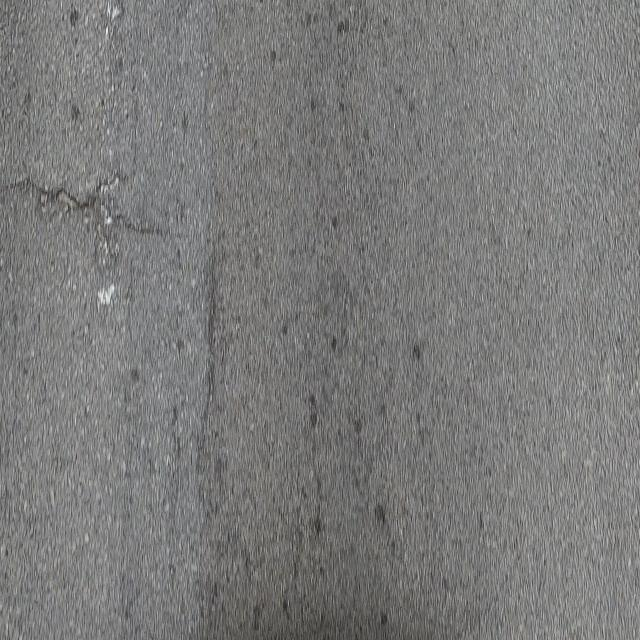Retak-Melintang: (5, 166, 187, 275)
